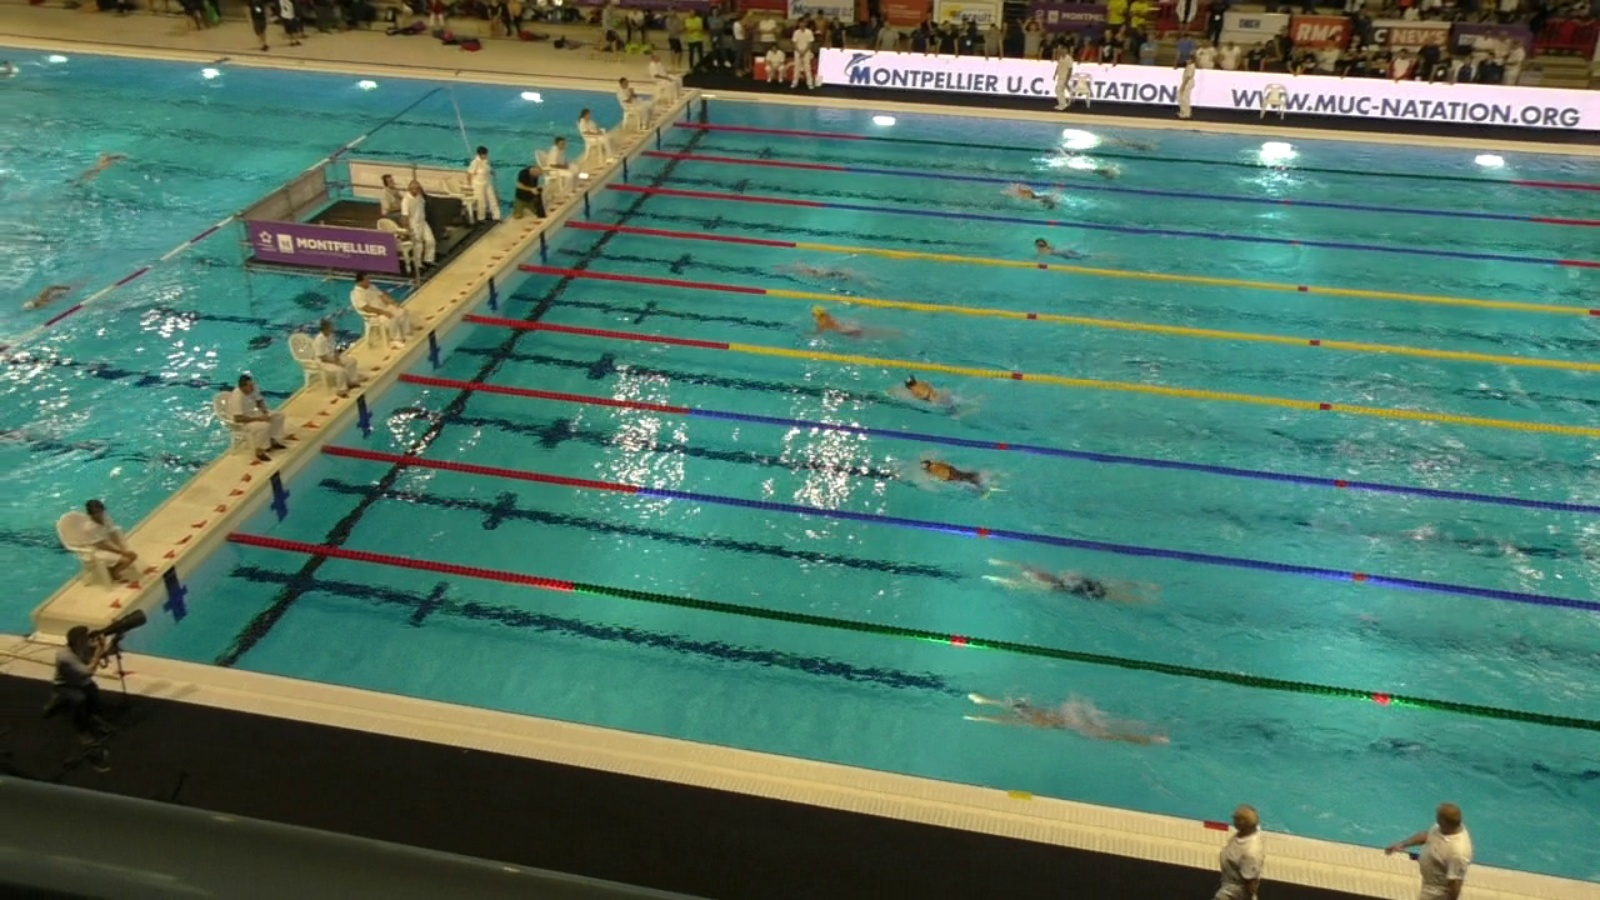swimmerwdd: (957, 684, 1191, 759), (978, 556, 1162, 600), (901, 369, 995, 438), (807, 301, 927, 345), (762, 253, 889, 291), (16, 267, 105, 315), (903, 453, 1019, 488), (998, 180, 1086, 221), (66, 148, 126, 188), (1057, 160, 1126, 192), (1034, 237, 1102, 265), (1095, 129, 1163, 155)
